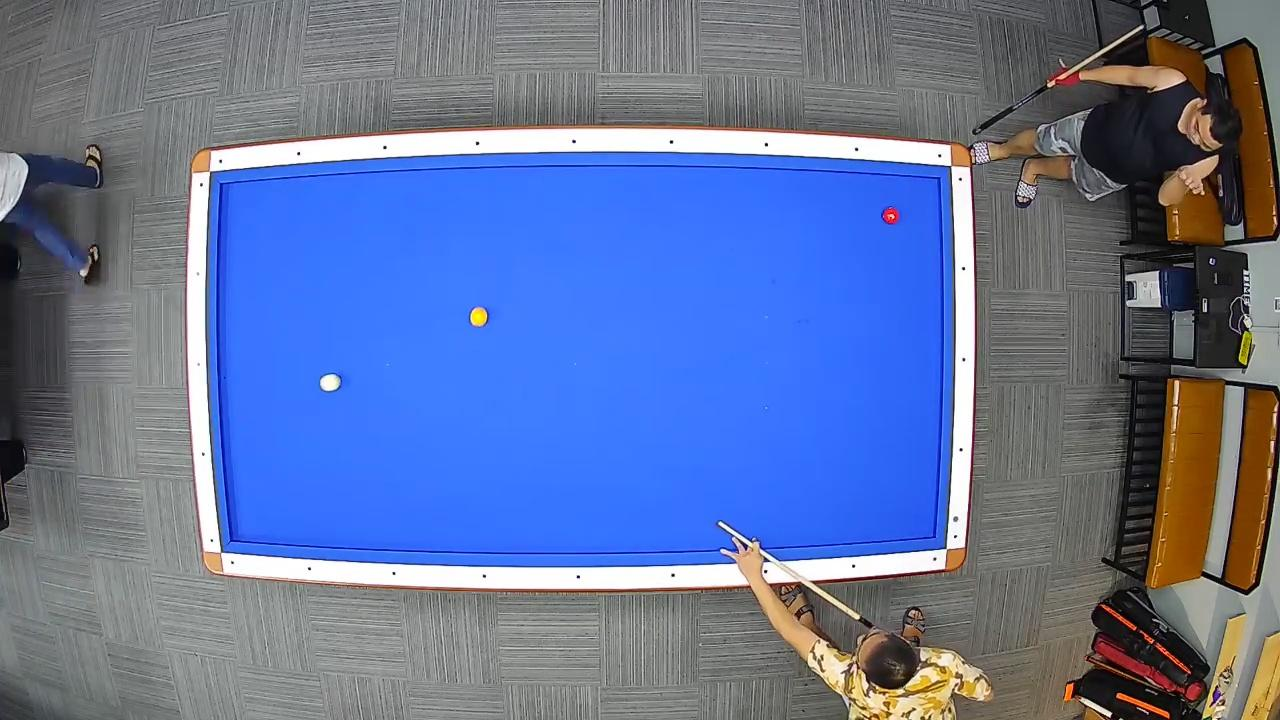Red: (882, 206, 901, 225)
White: (316, 372, 344, 393)
Yellow: (469, 302, 489, 328)
